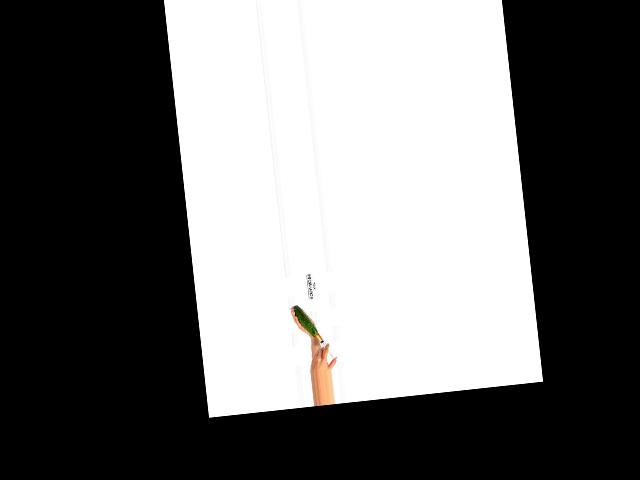cucumber: (293, 304, 318, 339)
